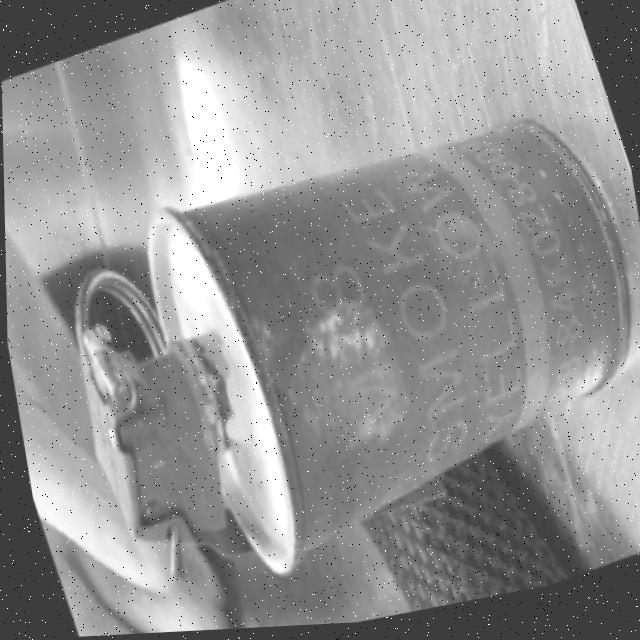grenade: (14, 42, 640, 639)
